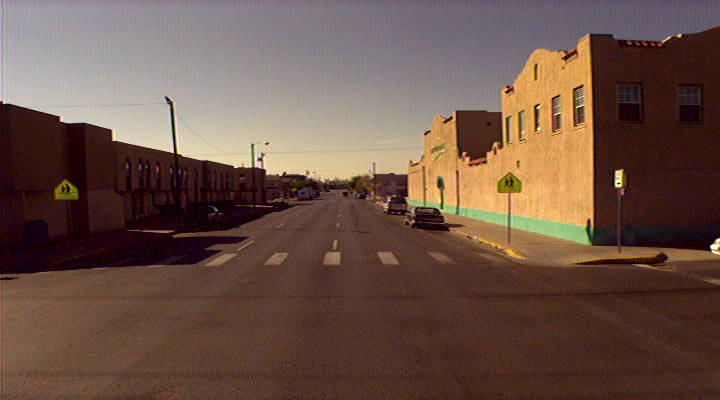Ramp: (499, 243, 599, 271)
